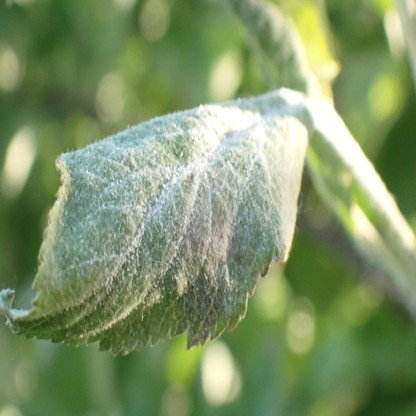powder: (0, 88, 308, 360)
